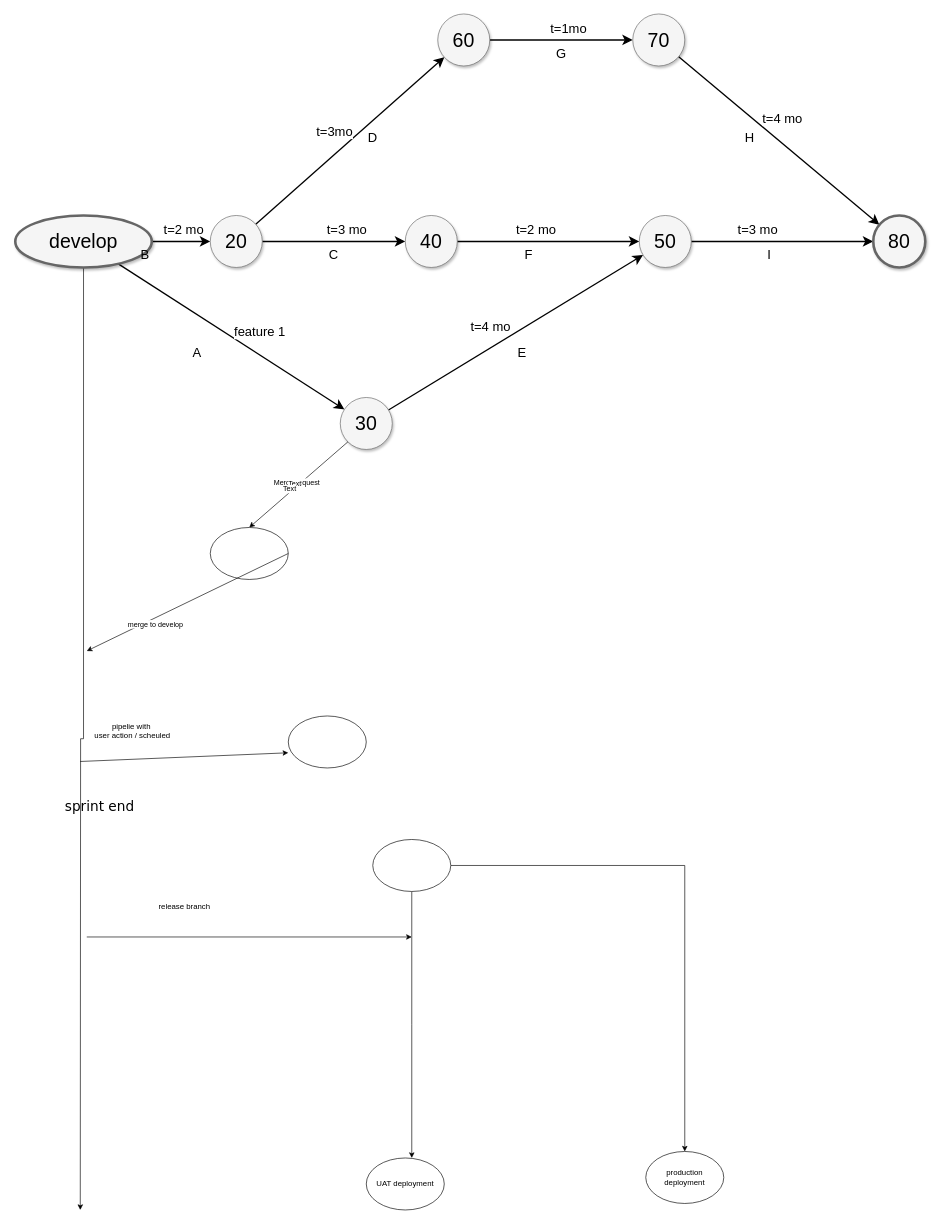
Image size: 941x1227. Some labels were removed from this diagram. The shapes that lost their labels are listed below. From the top down, each one's centre as x and y in pixels, then its label:
At pixel 249 553: "validation org/ build".
At pixel 327 741: "integration org".
At pixel 411 865: "release #12".
